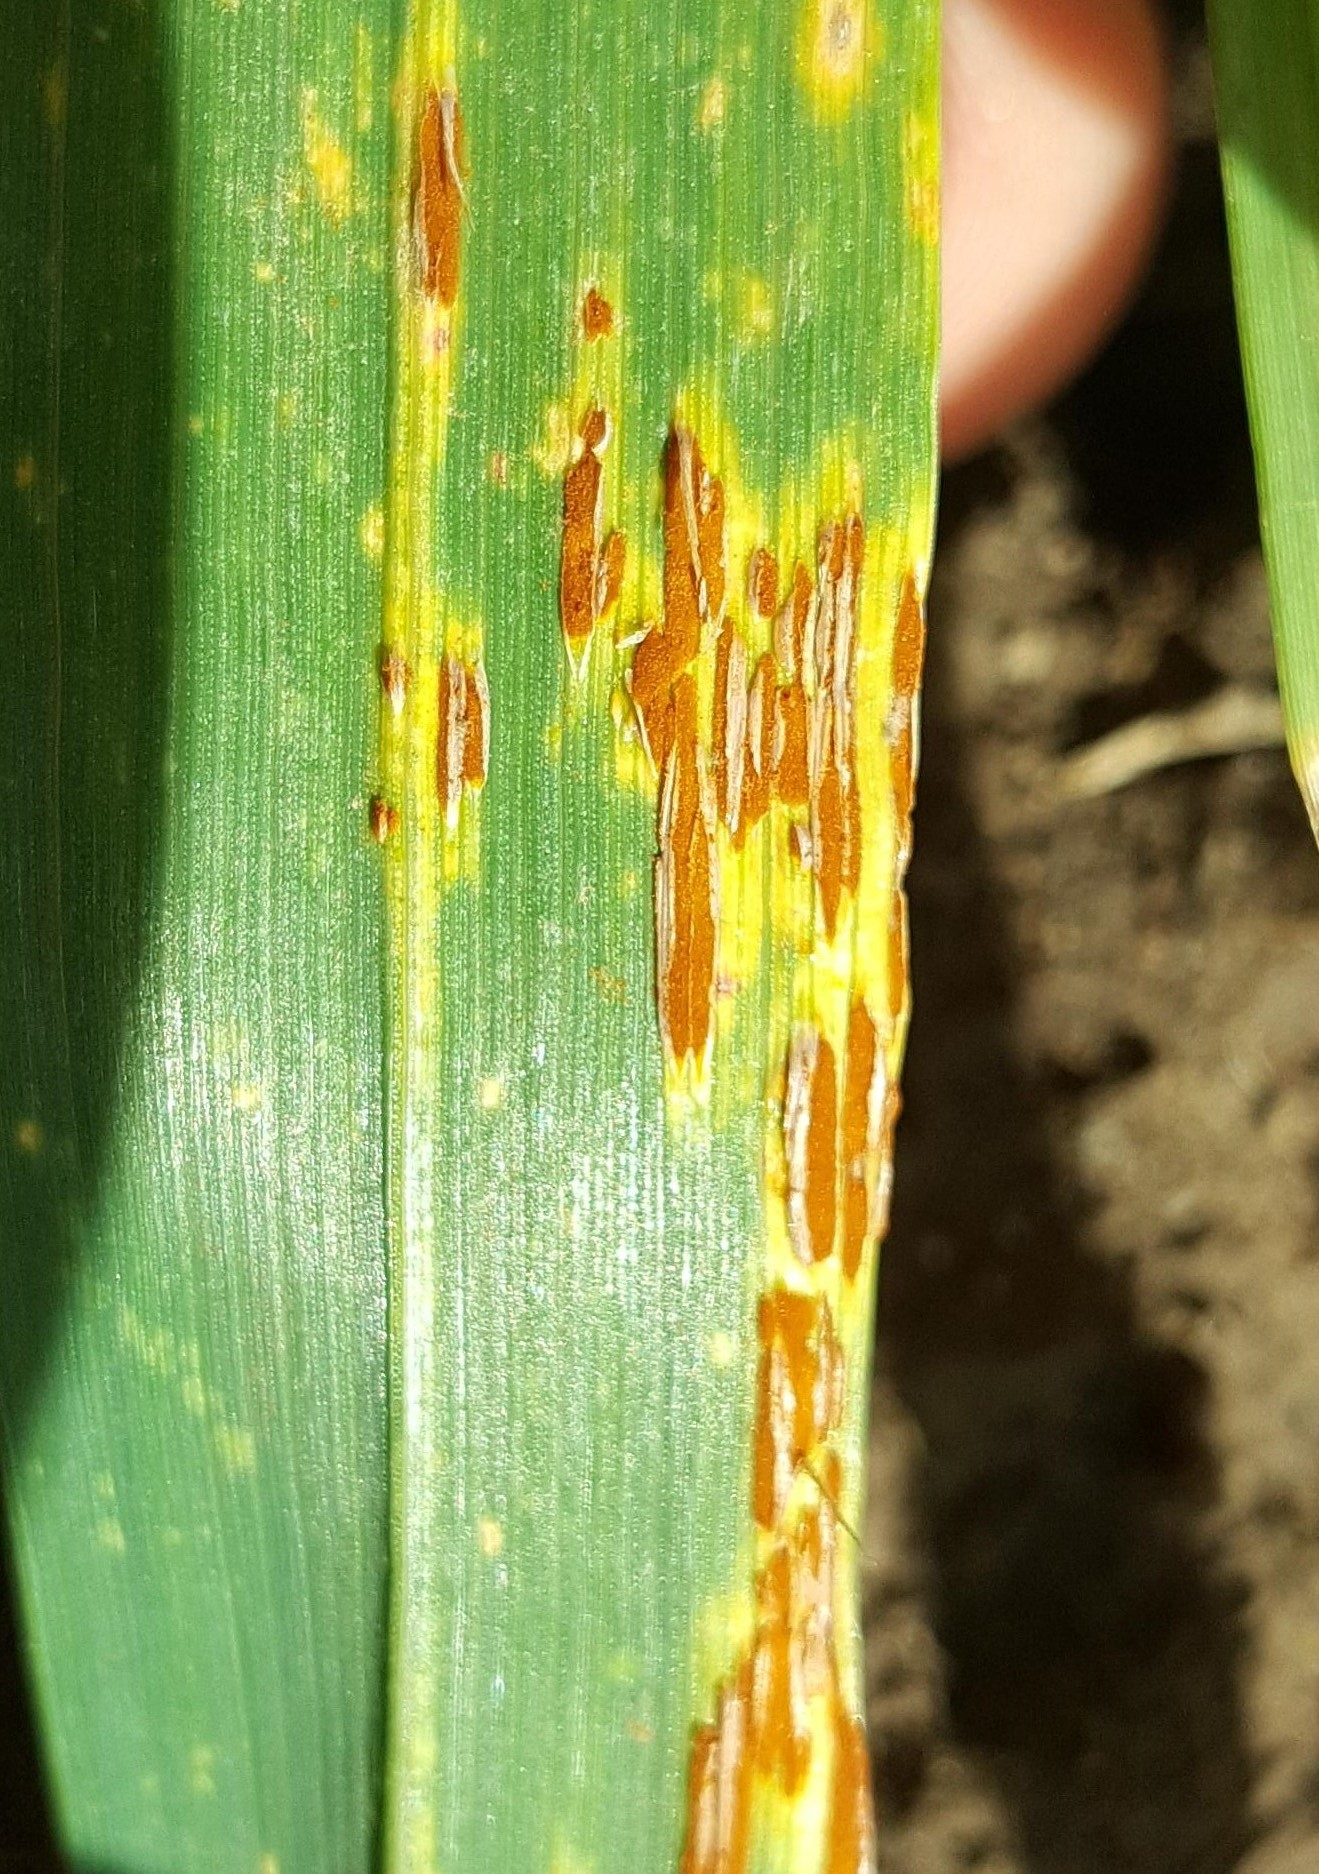Leaf Rust: (410, 257, 928, 1833)
